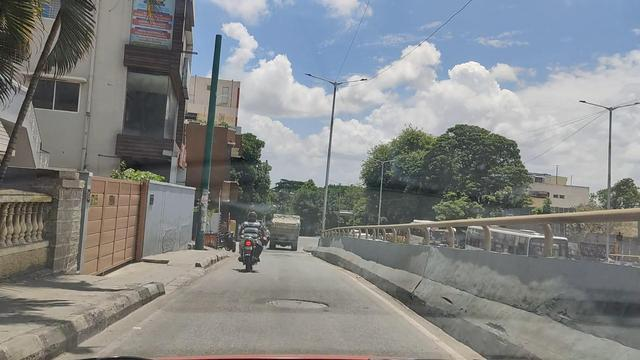HMV: (265, 203, 308, 256)
RoadDamages: (260, 286, 344, 321)
